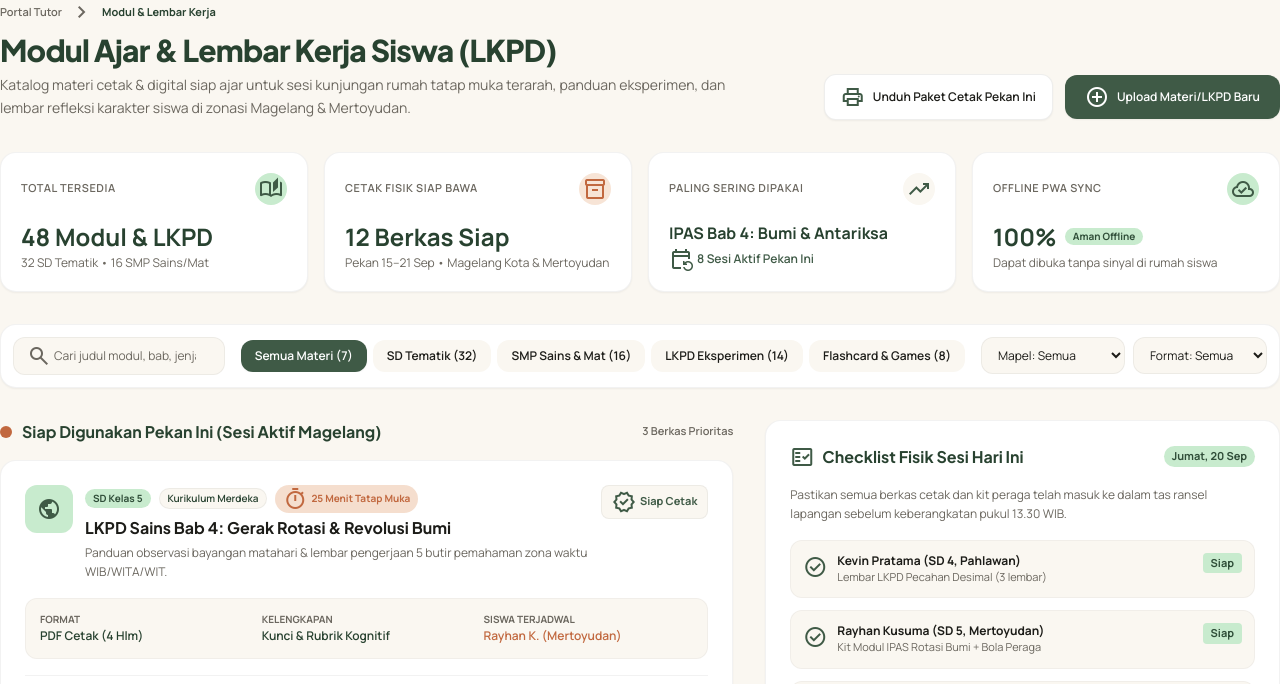
Test: TutorWorksheetsModules Component (SQA-ISTQB & TDD) › TC-TWM-004: opens preview modal and upload new worksheet modal
This screenshot has width=1280, height=684.
# Open upload modal
Click the button "Upload Materi/LKPD Baru" at (1172, 96), box [1065,74,1279,118]
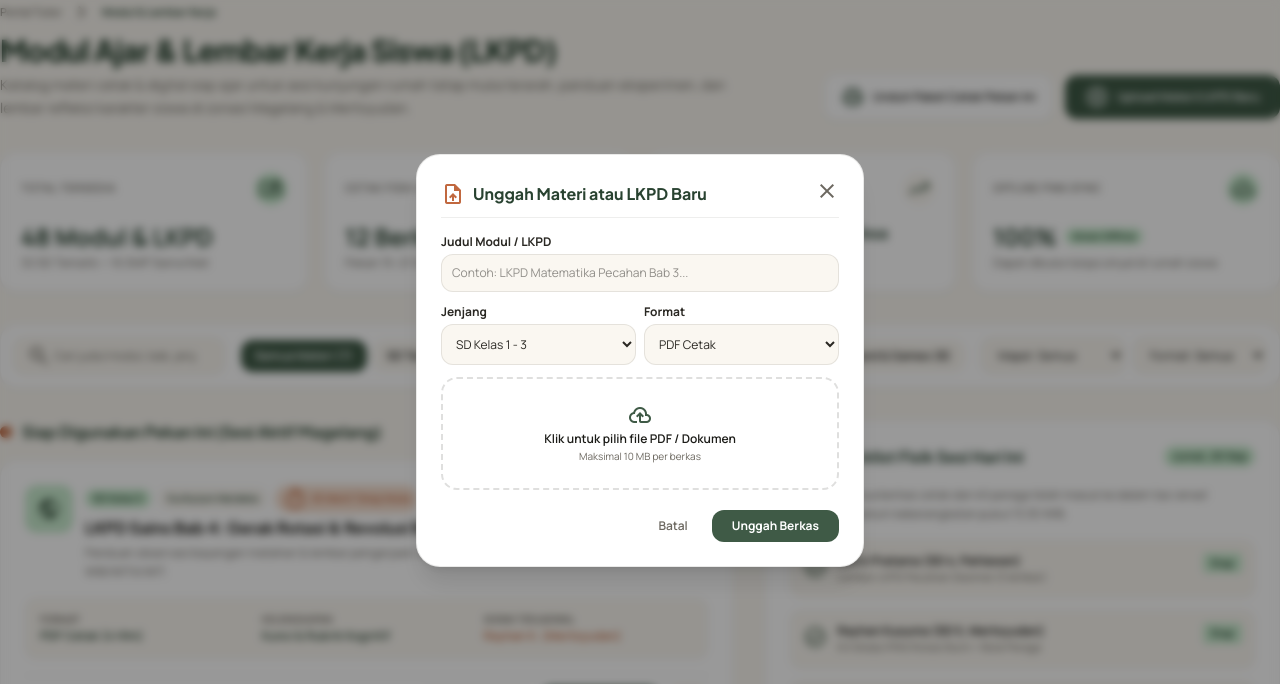
Check: the heading "Unggah Materi atau LKPD Baru" is shown, box [473,182,707,206]
Click the button "Batal" at (673, 526), box [642,510,704,542]
(page scrolled)
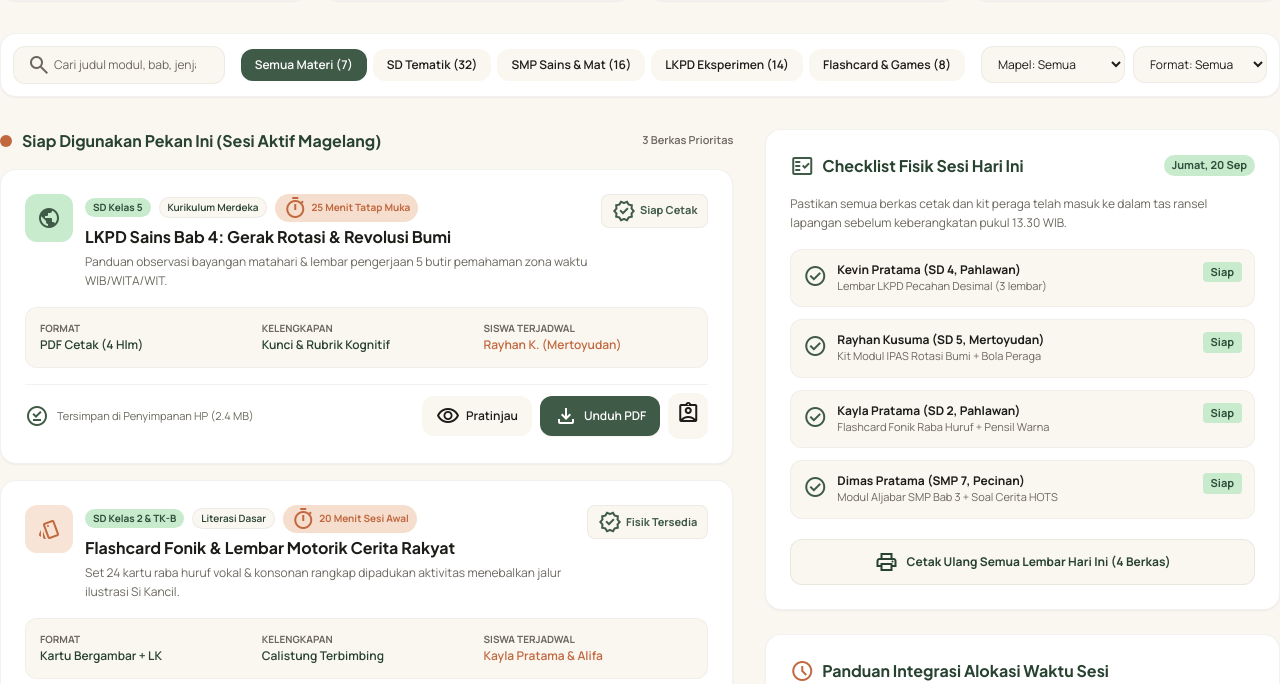
# Open preview modal
Click the button "Pratinjau" in the row of "2.4 MB" at (477, 416), box [422,396,532,436]
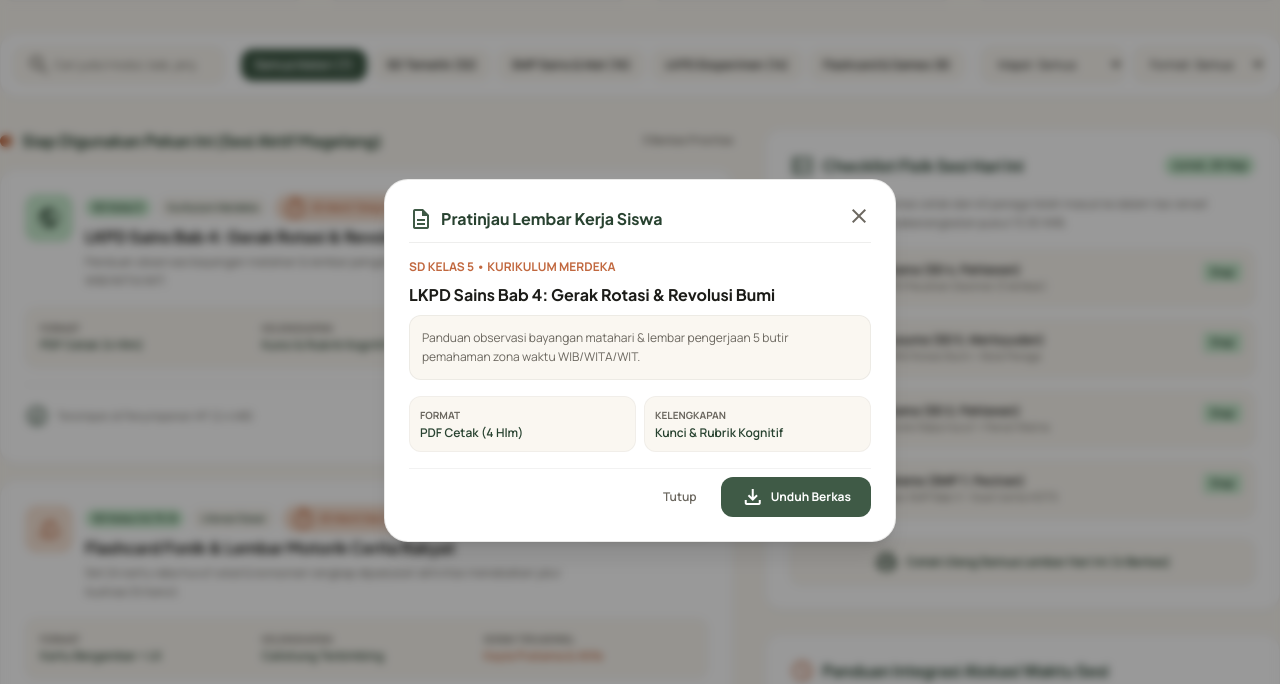
Check: the heading "Pratinjau Lembar Kerja Siswa" is shown, box [441,206,662,230]
